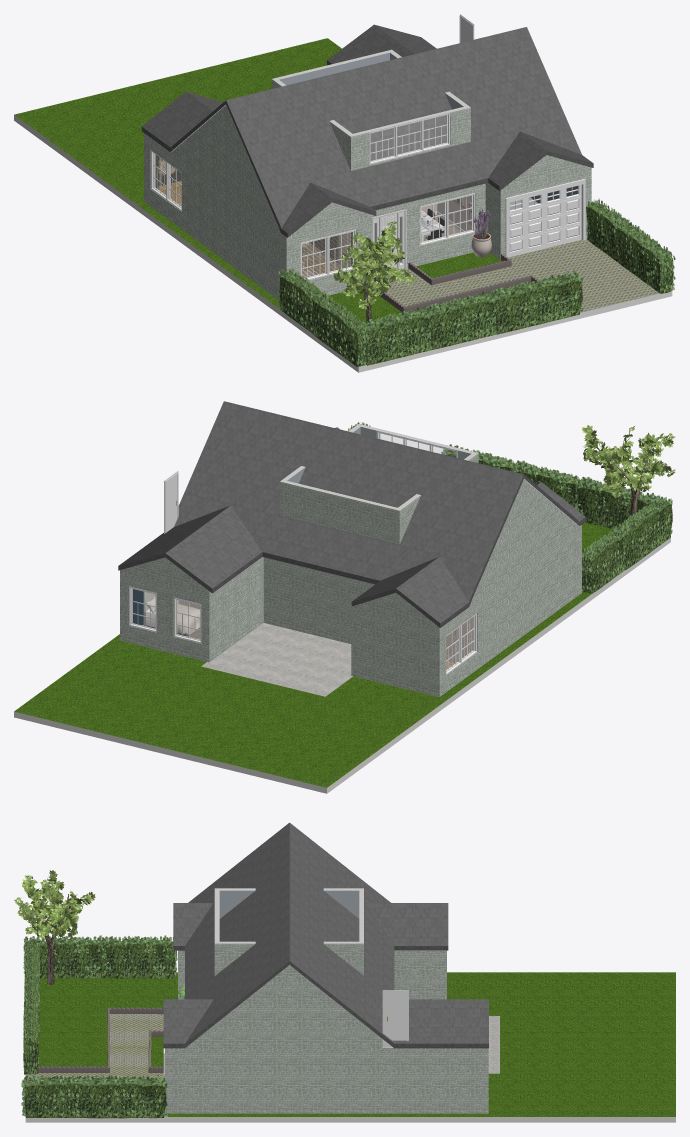
The model's file is home_sweet_home.glb.
The picture shows the model from 3 angles, top to bottom: view 1: azimuth 30°, elevation 25°; view 2: azimuth 150°, elevation 25°; view 3: azimuth 270°, elevation 25°; orthographic projection. The views are drawn at different scales.
Parts seen in each view (by area): view 1: Object_98, Object_85, Object_59, Object_35, Object_52, Object_34, Object_84, Object_54, Object_28, Object_41, Object_55, Object_33 (+4 smaller); view 2: Object_98, Object_85, Object_59, Object_35, Object_97, Object_28, Object_34, Object_52, Object_41, Object_54, Object_39, Object_48 (+1 smaller); view 3: Object_59, Object_98, Object_85, Object_35, Object_34, Object_28, Object_84, Object_41, Object_52, Object_55, Object_15, Object_39 (+1 smaller).
Part boxes in pixels (x1=…): Object_98: x1=141, y1=24, x2=593, y2=237; Object_85: x1=144, y1=79, x2=591, y2=300; Object_59: x1=14, y1=38, x2=531, y2=366; Object_35: x1=279, y1=202, x2=673, y2=366; Object_52: x1=151, y1=14, x2=585, y2=280; Object_34: x1=278, y1=198, x2=675, y2=364; Object_84: x1=380, y1=239, x2=659, y2=312; Object_54: x1=154, y1=115, x2=577, y2=277; Object_28: x1=14, y1=115, x2=672, y2=372; Object_41: x1=333, y1=221, x2=417, y2=309; Object_55: x1=379, y1=212, x2=536, y2=312; Object_33: x1=155, y1=154, x2=352, y2=277; Object_98: x1=118, y1=401, x2=585, y2=627; Object_85: x1=120, y1=453, x2=581, y2=696; Object_59: x1=14, y1=522, x2=613, y2=787; Object_35: x1=443, y1=449, x2=672, y2=593; Object_97: x1=201, y1=623, x2=352, y2=696; Object_28: x1=14, y1=537, x2=670, y2=793; Object_34: x1=347, y1=422, x2=672, y2=592; Object_52: x1=129, y1=431, x2=476, y2=674; Object_41: x1=582, y1=425, x2=675, y2=498; Object_54: x1=133, y1=434, x2=473, y2=670; Object_39: x1=280, y1=424, x2=478, y2=510; Object_48: x1=145, y1=592, x2=200, y2=634; Object_59: x1=38, y1=972, x2=675, y2=1116; Object_98: x1=163, y1=822, x2=488, y2=1048; Object_85: x1=165, y1=943, x2=488, y2=1113; Object_35: x1=23, y1=938, x2=174, y2=1118; Object_34: x1=21, y1=935, x2=177, y2=1117; Object_28: x1=25, y1=1117, x2=675, y2=1122; Object_84: x1=25, y1=1014, x2=167, y2=1116; Object_41: x1=14, y1=870, x2=95, y2=939; Object_52: x1=163, y1=990, x2=408, y2=1076; Object_55: x1=38, y1=1007, x2=163, y2=1072; Object_15: x1=219, y1=890, x2=359, y2=918; Object_39: x1=214, y1=888, x2=363, y2=943.
Size of the model in its own units: 14.39 by 7.1 by 26.79.
97 materials, 77 textured.
